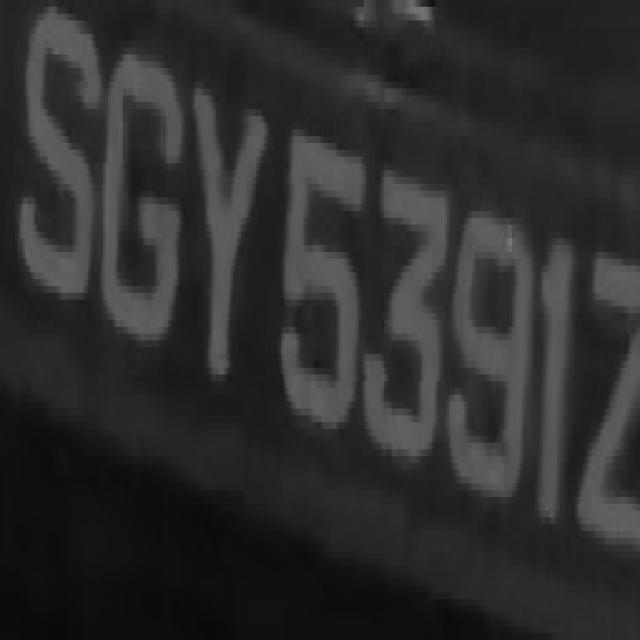1: (525, 184, 572, 592)
3: (374, 143, 459, 504)
5: (284, 95, 366, 456)
9: (449, 157, 530, 524)
G: (108, 13, 186, 374)
S: (15, 13, 100, 326)
Y: (188, 41, 266, 408)
Z: (578, 197, 638, 579)
